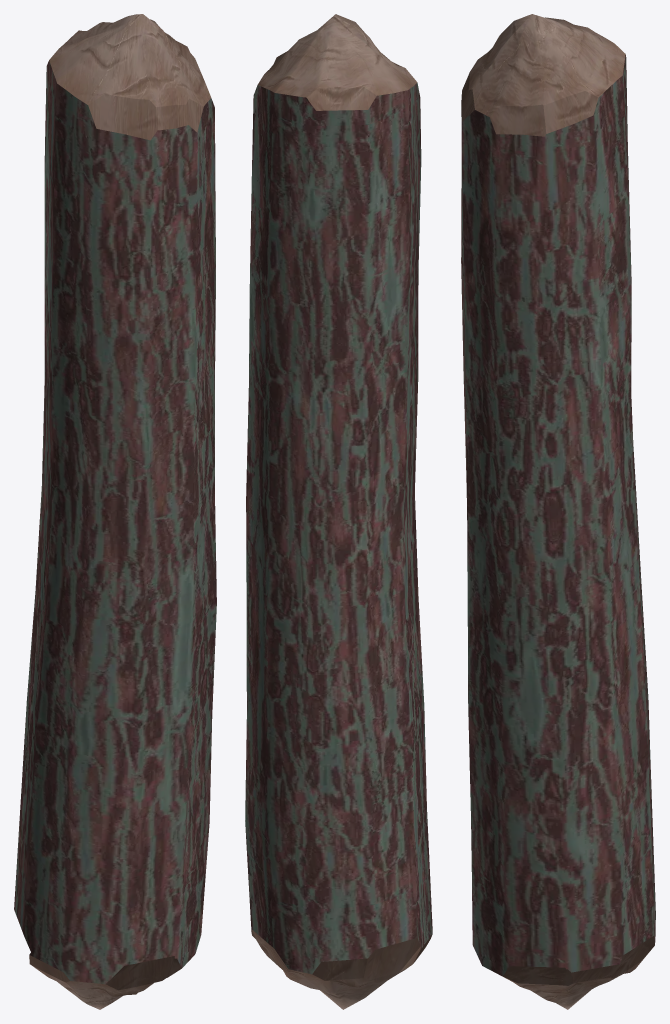
The picture shows the model from 3 angles, left to right: view 1: azimuth 30°, elevation 25°; view 2: azimuth 150°, elevation 25°; view 3: azimuth 270°, elevation 25°; orthographic projection. The views are drawn at different scales.
Visible parts, largest first — view 1: SM_MapleTree_01_quarter_04_LOD0; view 2: SM_MapleTree_01_quarter_04_LOD0; view 3: SM_MapleTree_01_quarter_04_LOD0.
Boxes of the visible parts, x1,y1,x2,y2 form: SM_MapleTree_01_quarter_04_LOD0: (14, 14, 216, 1009); SM_MapleTree_01_quarter_04_LOD0: (245, 14, 432, 1009); SM_MapleTree_01_quarter_04_LOD0: (461, 14, 655, 1009).
Size of the model in its own units: 0.4944 by 2.72 by 0.4752.
Materials: 1 (1 with a texture image).
